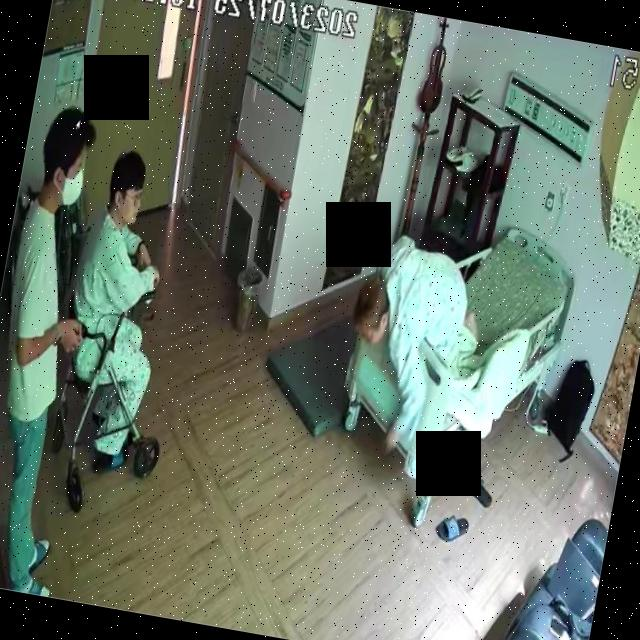danger: (328, 225, 491, 468)
patient: (328, 223, 492, 465)
